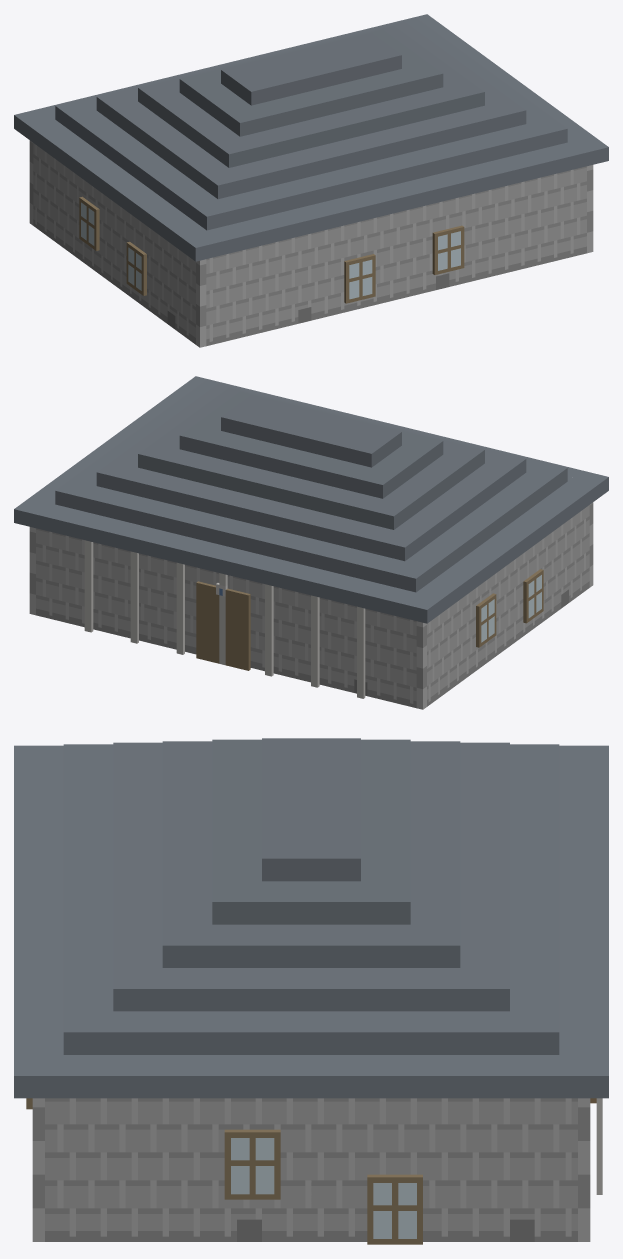
File: banos_comunales_02.glb
3 renders of one model, top to bottom at view 1: azimuth 30°, elevation 25°; view 2: azimuth 150°, elevation 25°; view 3: azimuth 270°, elevation 25°, orthographic. The views are drawn at different scales.
Visible parts, largest first — view 1: banos_comunales_02; view 2: banos_comunales_02; view 3: banos_comunales_02.
Part boxes in pixels (x1,y1,x2,y2): banos_comunales_02: [14, 14, 608, 347]; banos_comunales_02: [14, 376, 608, 709]; banos_comunales_02: [14, 738, 608, 1244].
Bounding box in the file's own units: 12.6 × 5.1 × 9.6.
